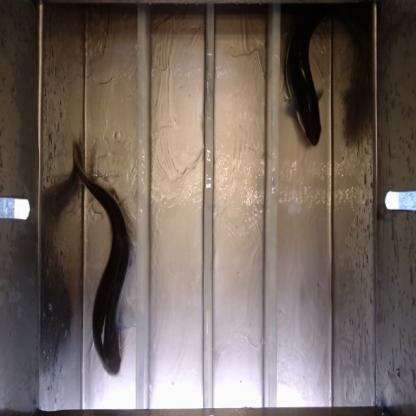pezw: (70, 150, 135, 380), (285, 1, 328, 148)
